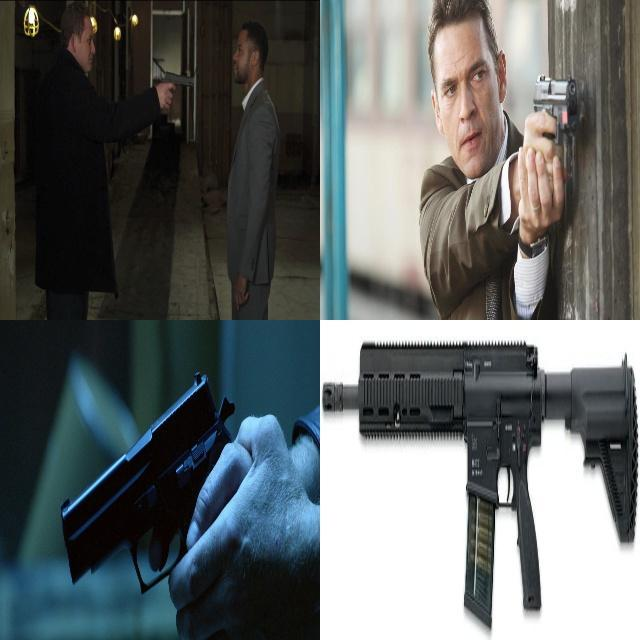gun-knife-thesis - v11 Yolov5 augmented: (321, 323, 636, 622), (59, 369, 249, 639), (525, 66, 580, 213), (157, 67, 195, 118)
